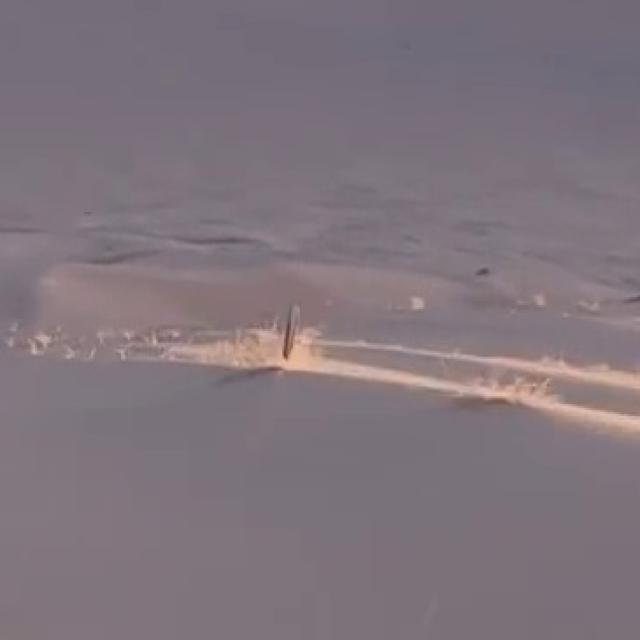Tire: (282, 303, 298, 359)
